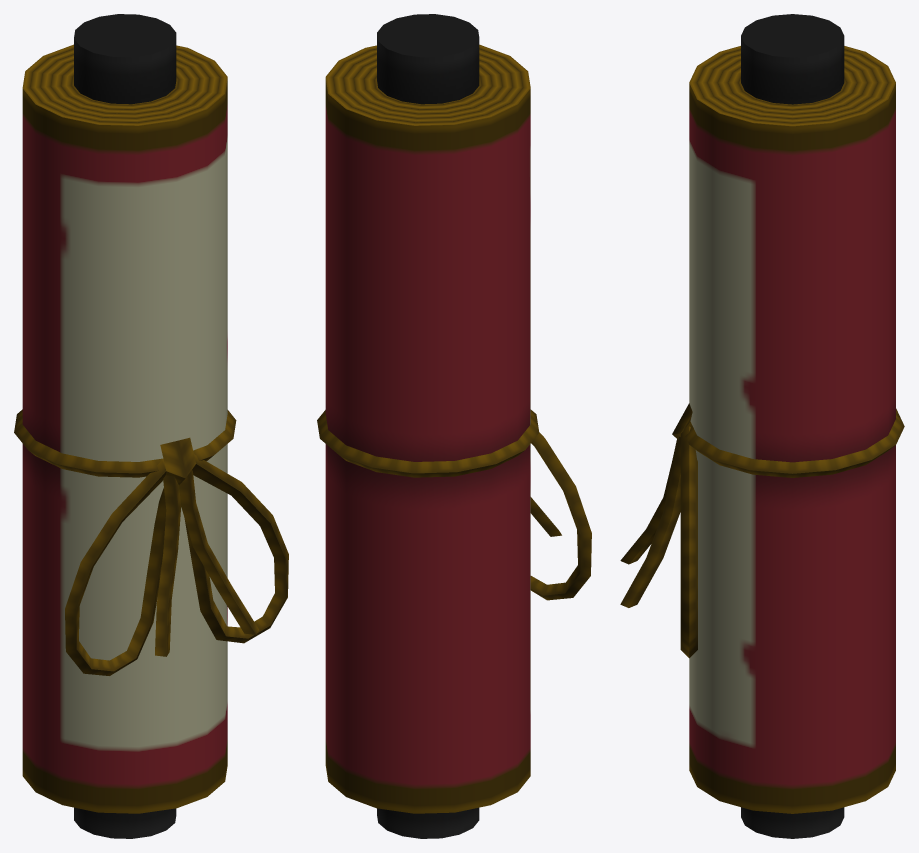
Rendered from makimono1-2.fbx.
The picture shows the model from 3 angles, left to right: view 1: azimuth 30°, elevation 25°; view 2: azimuth 150°, elevation 25°; view 3: azimuth 270°, elevation 25°; orthographic projection.
Parts seen in each view (by area): view 1: bdef:obj1; view 2: bdef:obj1; view 3: bdef:obj1.
Boxes of the visible parts, left/top/right/bottom form: bdef:obj1: left=14, top=14, right=288, bottom=838; bdef:obj1: left=317, top=14, right=591, bottom=838; bdef:obj1: left=620, top=14, right=904, bottom=838.
Size of the model in its own units: 30 by 100 by 33.
